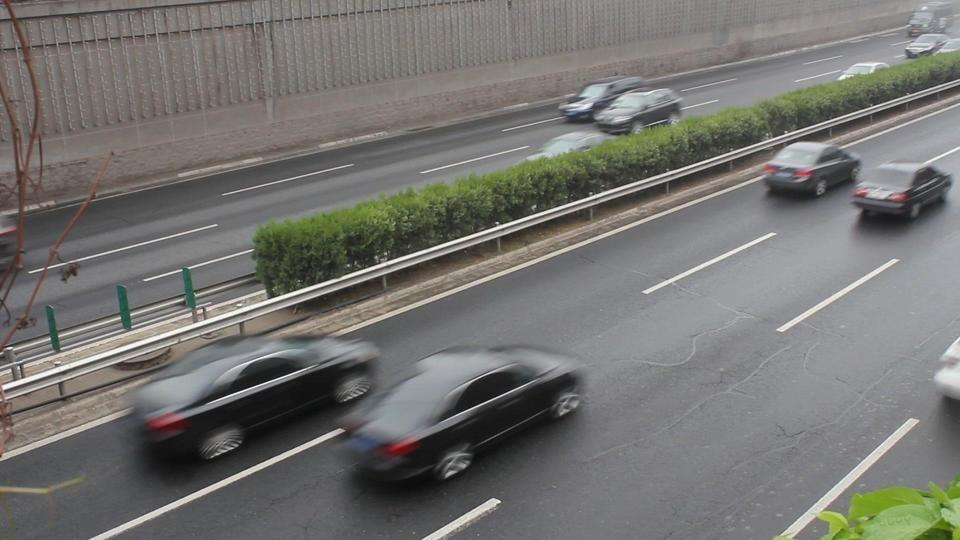car: (338, 344, 590, 488), (126, 336, 379, 463), (850, 161, 953, 221), (760, 141, 863, 198), (595, 89, 685, 135), (558, 75, 643, 123), (932, 336, 960, 404), (904, 34, 948, 60), (907, 8, 934, 38)
